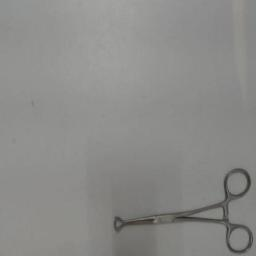Babcock Tissue Forceps: (110, 165, 254, 255)
